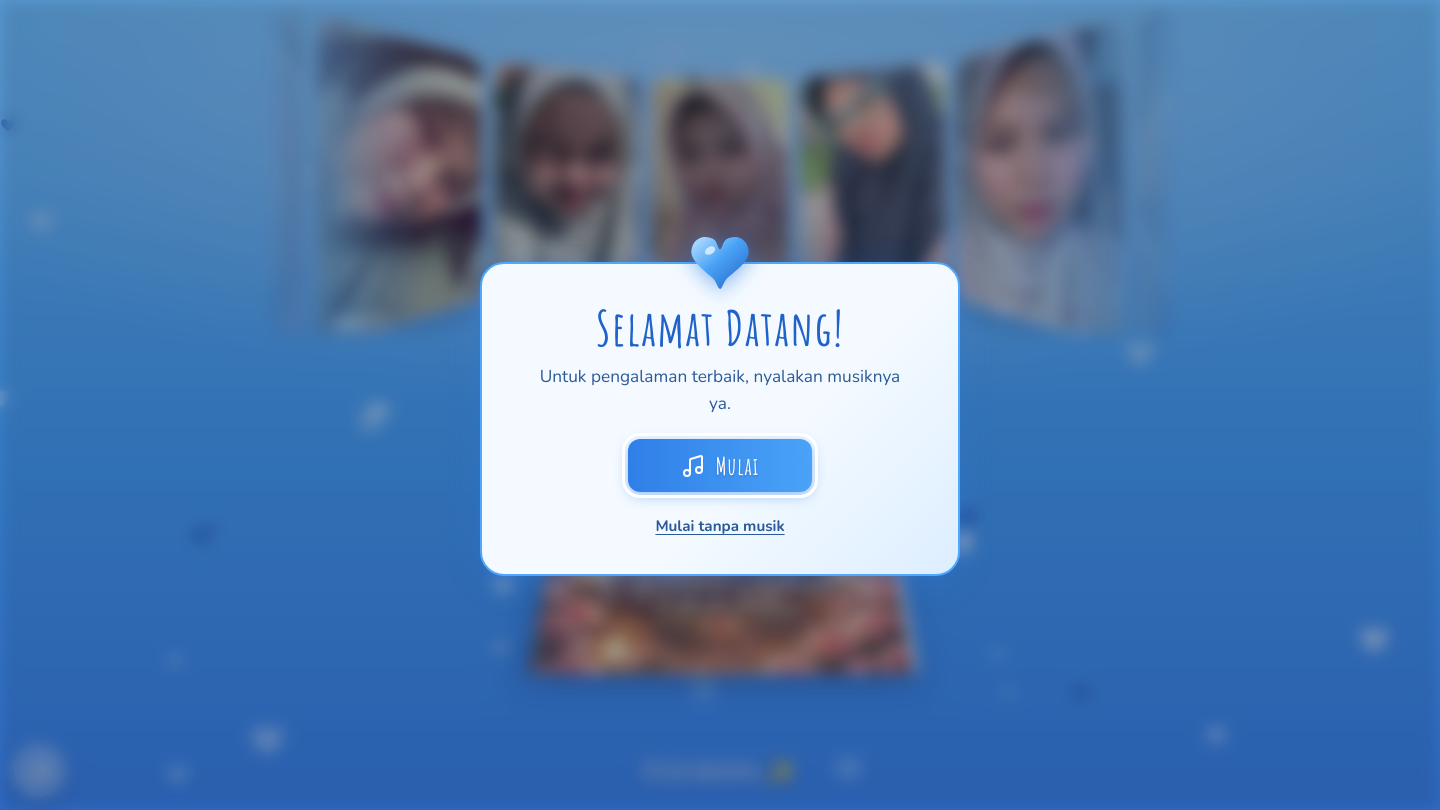
Test: App › greets with the welcome card and never asks for the microphone
Click the button "Mulai".
click(720, 466)  # box [628,439,812,492]
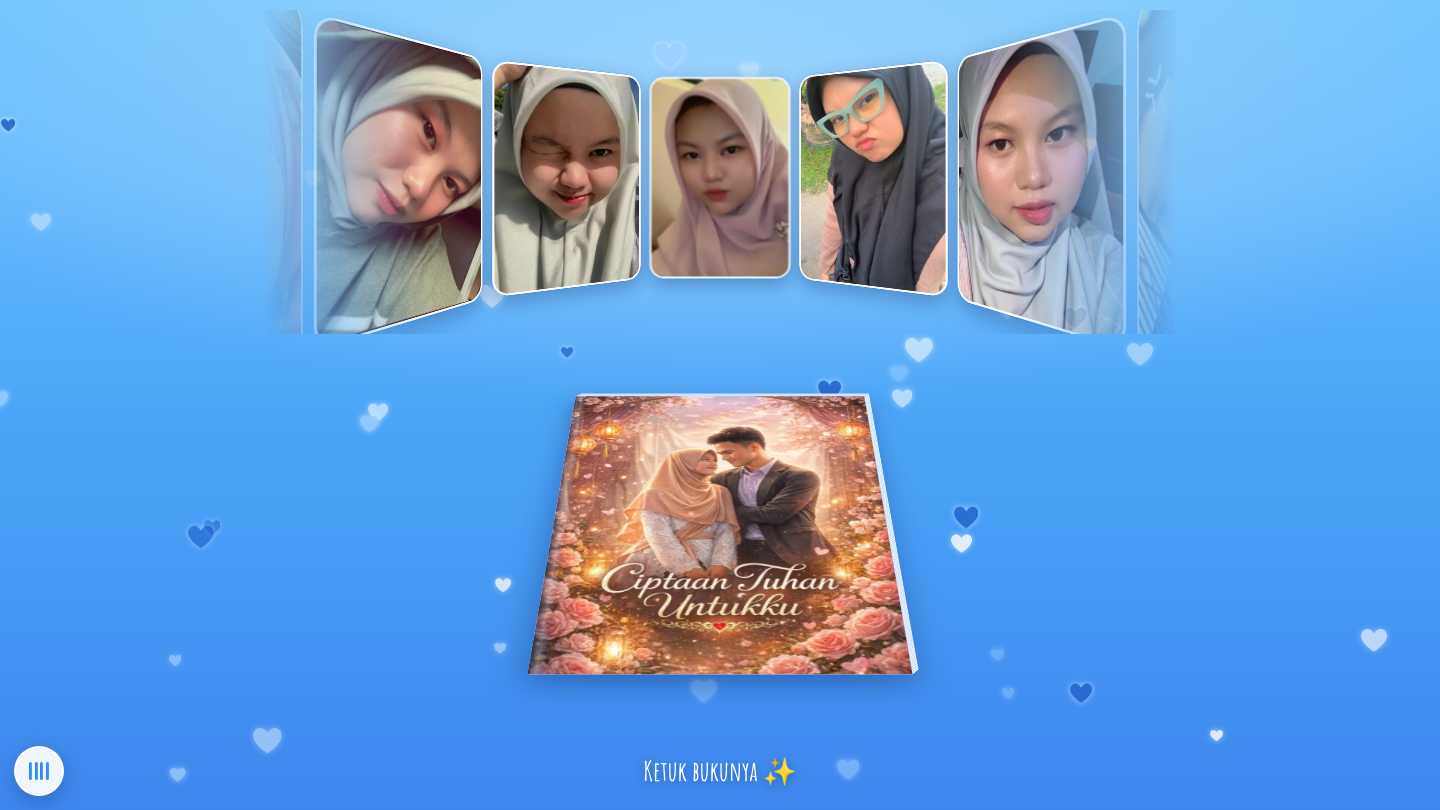
Expected: the heading "Selamat Datang!" is gone
